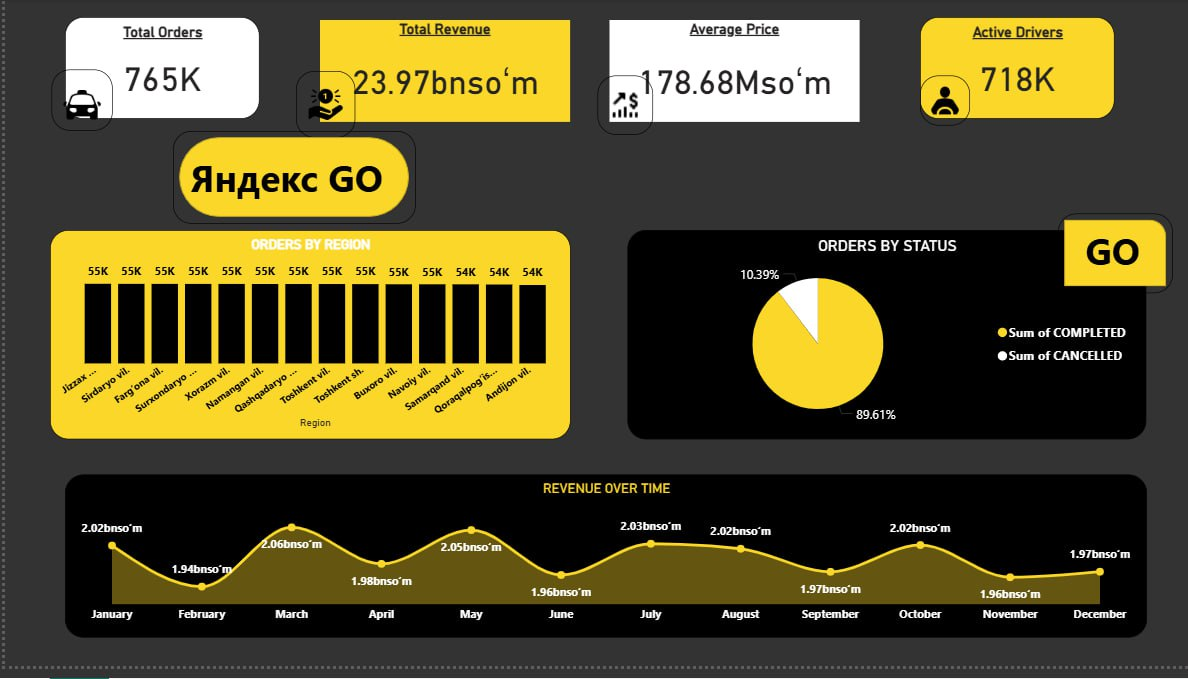

The dashboard page shown, as its layout file describes it:
{"tool":"powerbi","page":{"name":"Page 1","canvas":[1280,720],"ordinal":0},"visuals":[{"type":"card","title":"Total Orders","fields":{"Values":["Sum(Sheet1.Orders)"]},"box":[64,20,210,110],"z":0},{"type":"card","title":"Total Revenue","fields":{"Values":["Sum(Sheet1.Revenue_UZS)"]},"box":[340,22,270,110],"z":1000},{"type":"card","title":"Active Drivers","fields":{"Values":["Sum(Sheet1.Drivers_Active)"]},"box":[988,20,210,110],"z":2000},{"type":"card","title":"Average Price","fields":{"Values":["Sum(Sheet1.Avg_Price)"]},"box":[652,22,270,110],"z":3000},{"type":"pieChart","title":"ORDERS BY STATUS","fields":{"Y":["Sum(Sheet1.Completed_Orders)","Sum(Sheet1.Cancelled_Orders)"]},"box":[672,250,560,226],"z":4000},{"type":"areaChart","title":"REVENUE OVER TIME","fields":{"Category":["Sheet1.Date.Variation.Date Hierarchy.Month"],"Y":["Sum(Sheet1.Revenue_UZS)"]},"box":[64,514,1168,176],"z":5000},{"type":"columnChart","title":"ORDERS BY REGION","fields":{"Category":["Sheet1.Region"],"Y":["Sum(Sheet1.Orders)"]},"box":[48,250,562,226],"z":6000},{"type":"image","box":[50,76,66,66],"z":7000},{"type":"image","box":[314,78,64,72],"z":8000},{"type":"image","box":[640,82,60,64],"z":9000},{"type":"image","box":[988,82,54,54],"z":10000},{"type":"shape","title":"Yandex","box":[182,142,262,100],"z":11000},{"type":"shape","box":[1136,232,124,86],"z":12001}]}

Visuals, with their boxes in screenshot pixels (x1, y1, x2, y2), scaled from the page's 1280x720 canvas onto the 1188x679 screenshot:
"Total Orders" card: locate(59, 19, 254, 123)
"Total Revenue" card: locate(316, 21, 566, 124)
"Active Drivers" card: locate(917, 19, 1112, 123)
"Average Price" card: locate(605, 21, 856, 124)
"ORDERS BY STATUS" pieChart: locate(624, 236, 1143, 449)
"REVENUE OVER TIME" areaChart: locate(59, 485, 1143, 651)
"ORDERS BY REGION" columnChart: locate(45, 236, 566, 449)
image: locate(46, 72, 108, 134)
image: locate(291, 74, 351, 141)
image: locate(594, 77, 650, 138)
image: locate(917, 77, 967, 128)
"Yandex" shape: locate(169, 134, 412, 228)
shape: locate(1054, 219, 1169, 300)
